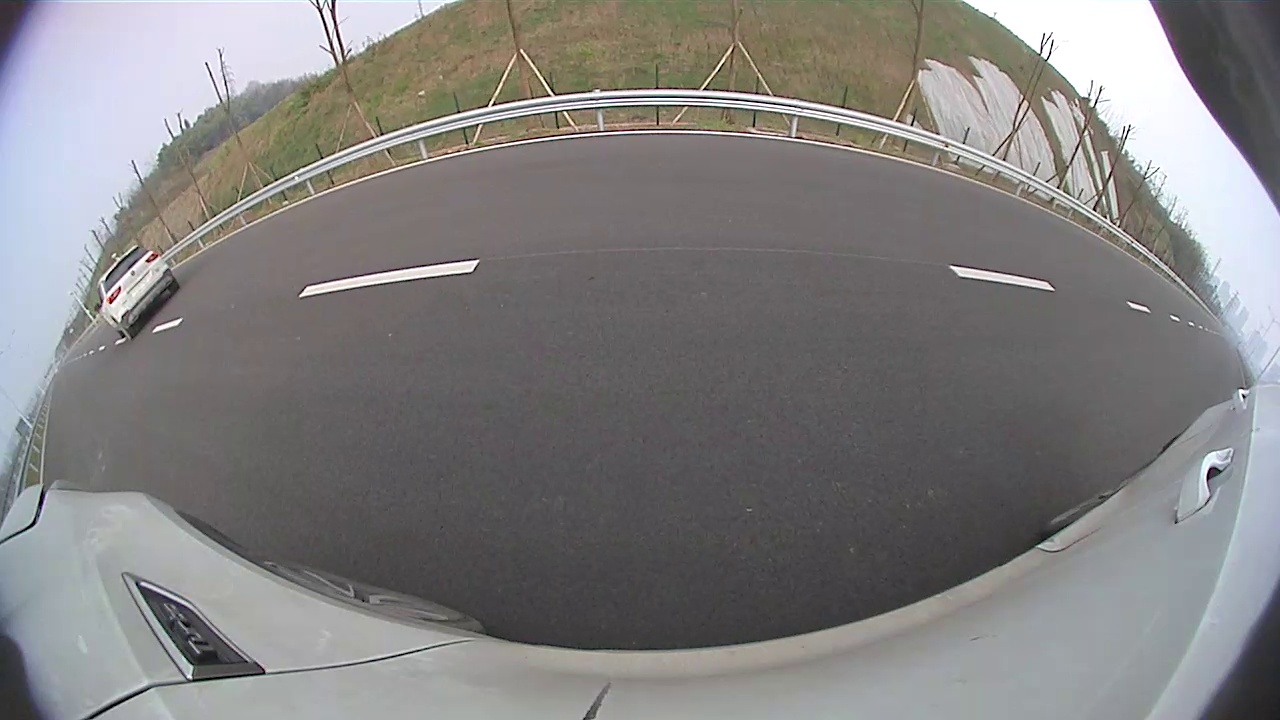car: (95, 245, 180, 339)
